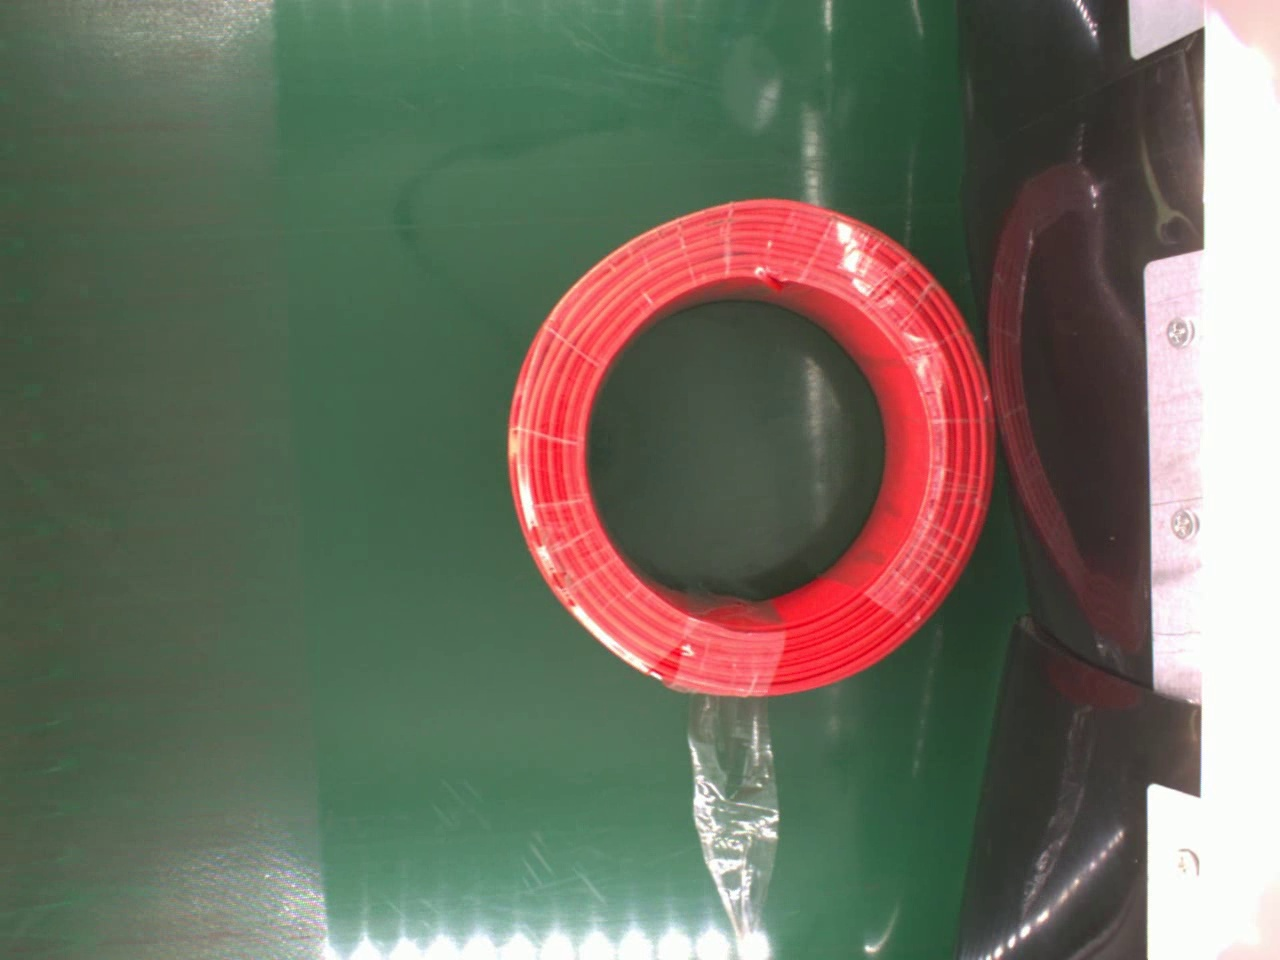red: (504, 195, 995, 697)
